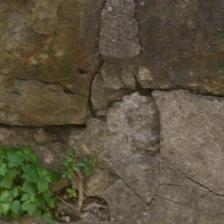Crack: (56, 62, 167, 116), (0, 69, 98, 130), (39, 19, 83, 79), (70, 10, 158, 38), (0, 32, 63, 57)
